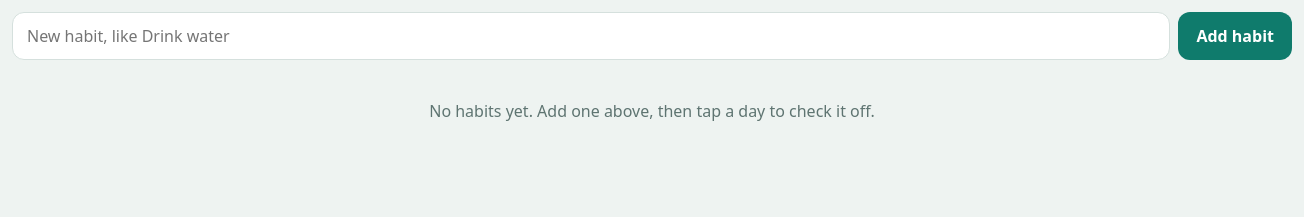
it: HabitTracker › HAB-06: adds a habit and clears the input
Type "Drink water" into the field labelled "New habit".
click(591, 36); type("Drink water")  # box left=12, top=12, right=1170, bottom=60
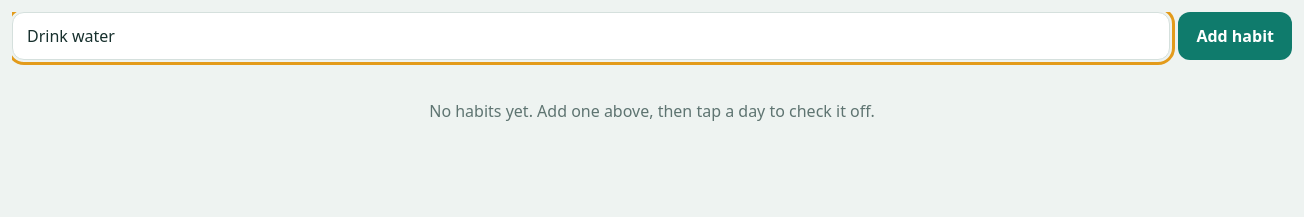
Click the button "Add habit".
click(1235, 36)  # box left=1178, top=12, right=1292, bottom=60
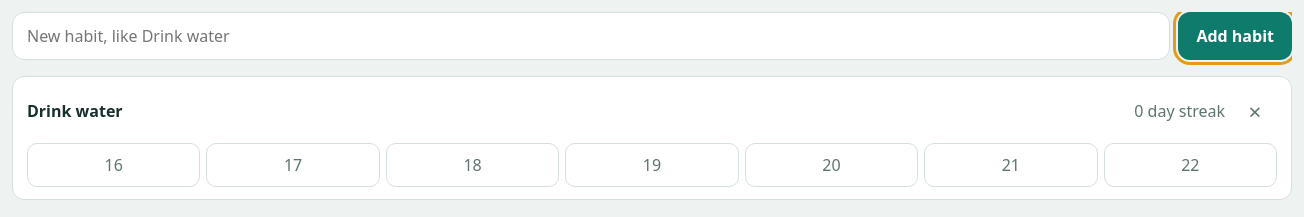
Result: the text "Drink water" is shown at left=27, top=100, right=123, bottom=122
Result: the field labelled "New habit" is empty at left=12, top=12, right=1170, bottom=60
